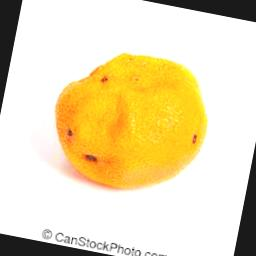Orange Rotten: (35, 28, 231, 212)
